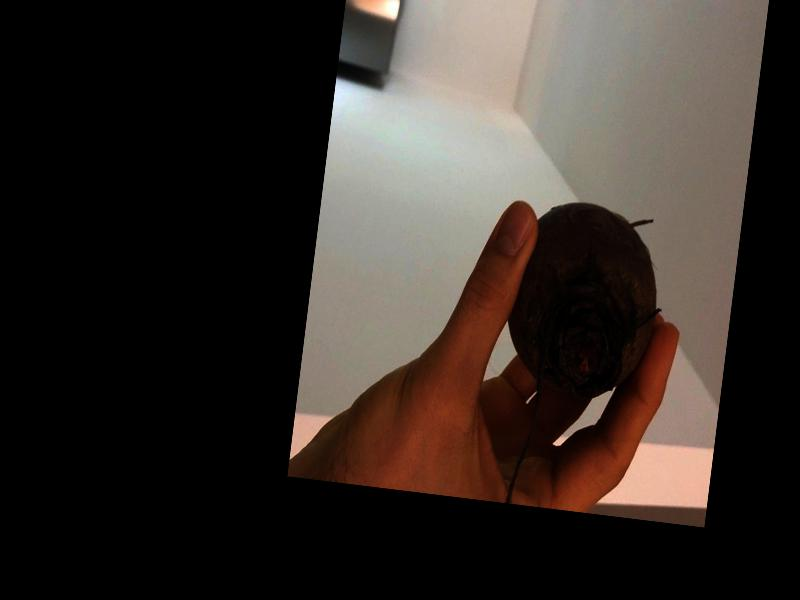Beet: (484, 193, 673, 517)
